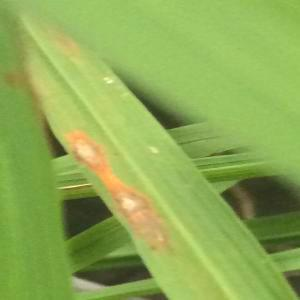1 RiceBlast: (97, 177, 181, 251), (62, 117, 110, 172)
